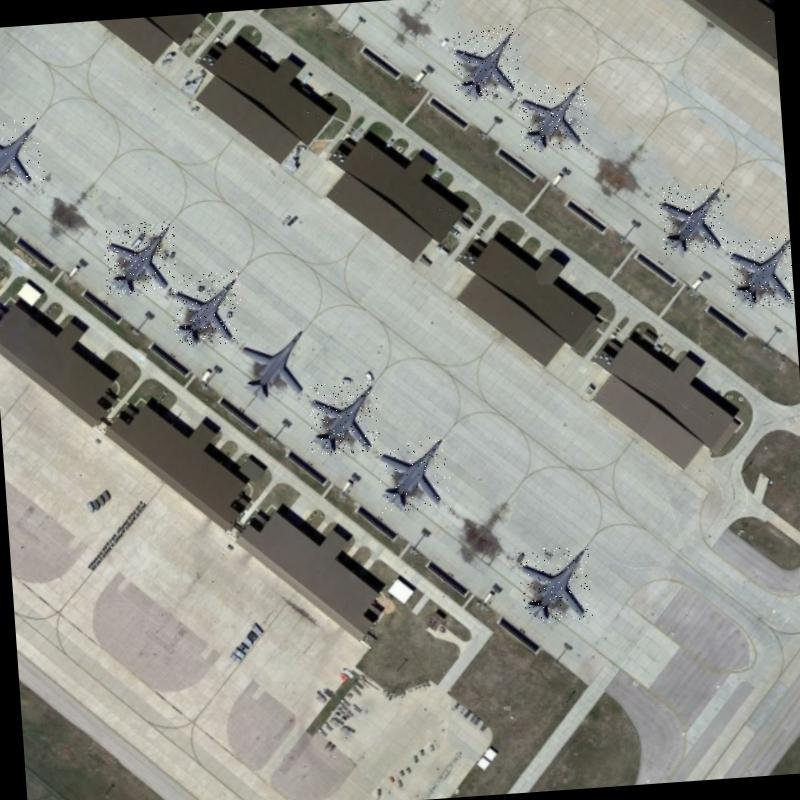A10: (516, 544, 592, 624), (237, 324, 314, 402), (102, 219, 178, 298), (168, 270, 244, 347), (450, 22, 523, 102), (376, 435, 451, 512), (306, 378, 380, 456), (515, 80, 590, 153), (657, 182, 728, 255), (726, 236, 794, 308), (0, 116, 45, 188)
